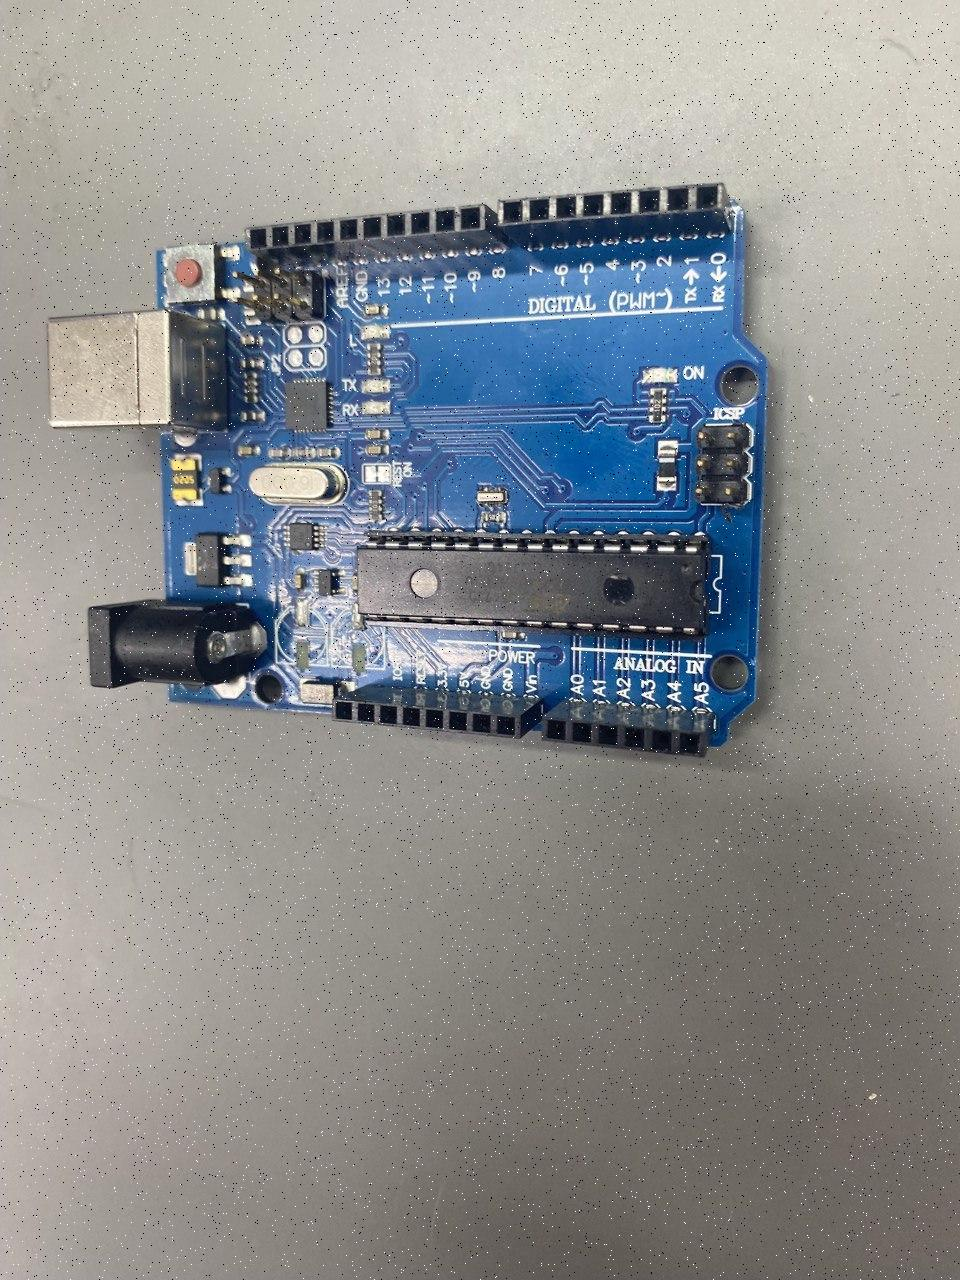ATmega328 chip: (357, 531, 709, 639)
Arduino board: (47, 182, 766, 758)
USB: (47, 309, 228, 431)
pins: (244, 204, 511, 267), (498, 182, 732, 246), (332, 686, 542, 740), (543, 700, 714, 758)
resistor: (648, 388, 667, 423), (367, 344, 382, 376), (369, 490, 382, 520), (244, 373, 257, 402)
